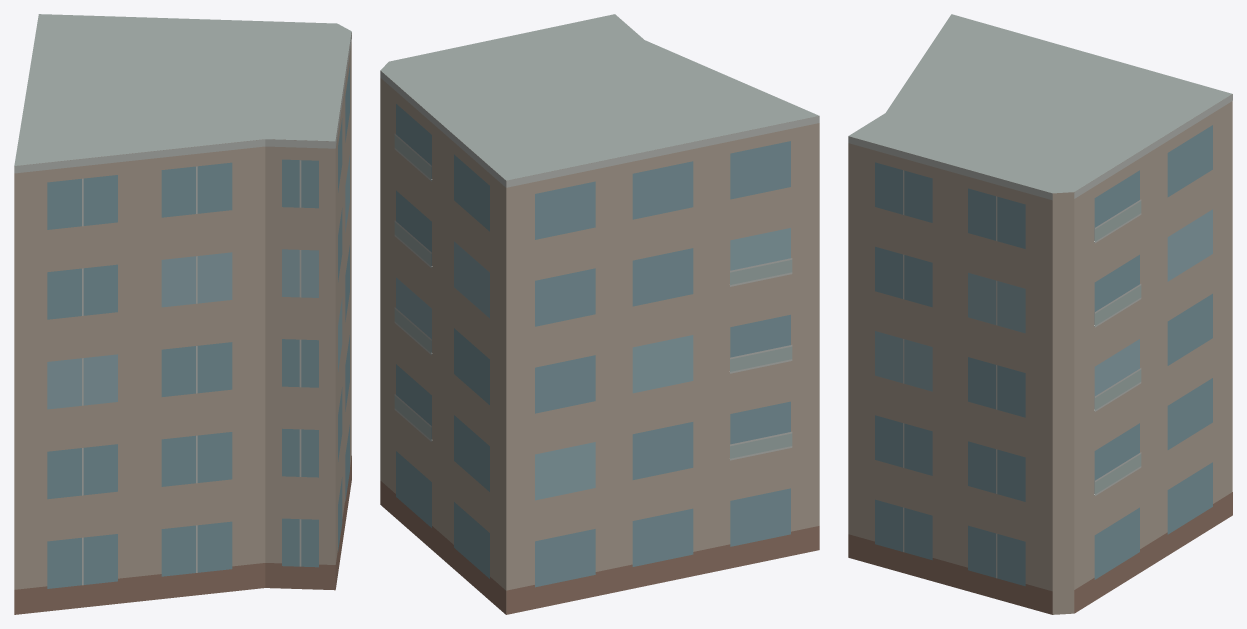
File: survey-upis-33026948.glb
The picture shows the model from 3 angles, left to right: view 1: azimuth 30°, elevation 25°; view 2: azimuth 150°, elevation 25°; view 3: azimuth 270°, elevation 25°; orthographic projection. The views are drawn at different scales.
Visible parts, largest first — view 1: survey-upis-33026948.tmp; view 2: survey-upis-33026948.tmp; view 3: survey-upis-33026948.tmp.
Part boxes in pixels (x1,y1,x2,y2): survey-upis-33026948.tmp: [14, 14, 351, 614]; survey-upis-33026948.tmp: [380, 14, 819, 614]; survey-upis-33026948.tmp: [848, 14, 1232, 614].
Size of the model in its own units: 13.55 by 14.84 by 12.28.
